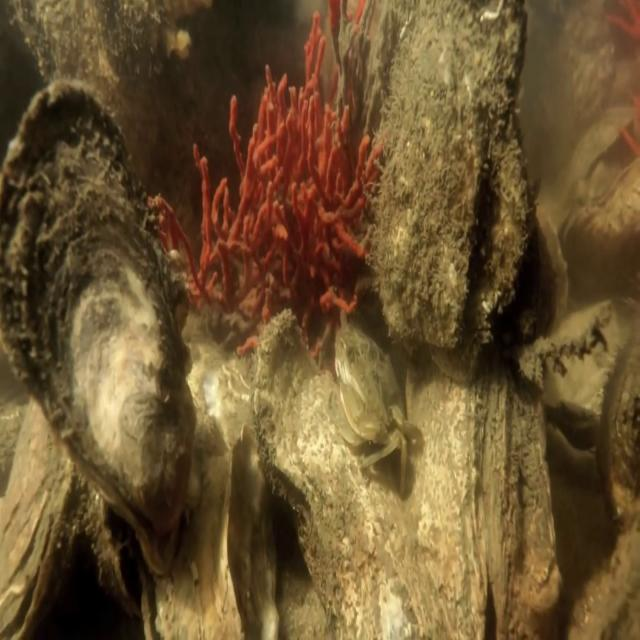Oyster-Indeterminate: (0, 51, 200, 582)
Oyster-Open: (362, 8, 551, 390), (244, 291, 433, 630), (1, 395, 87, 639), (136, 567, 208, 637)
